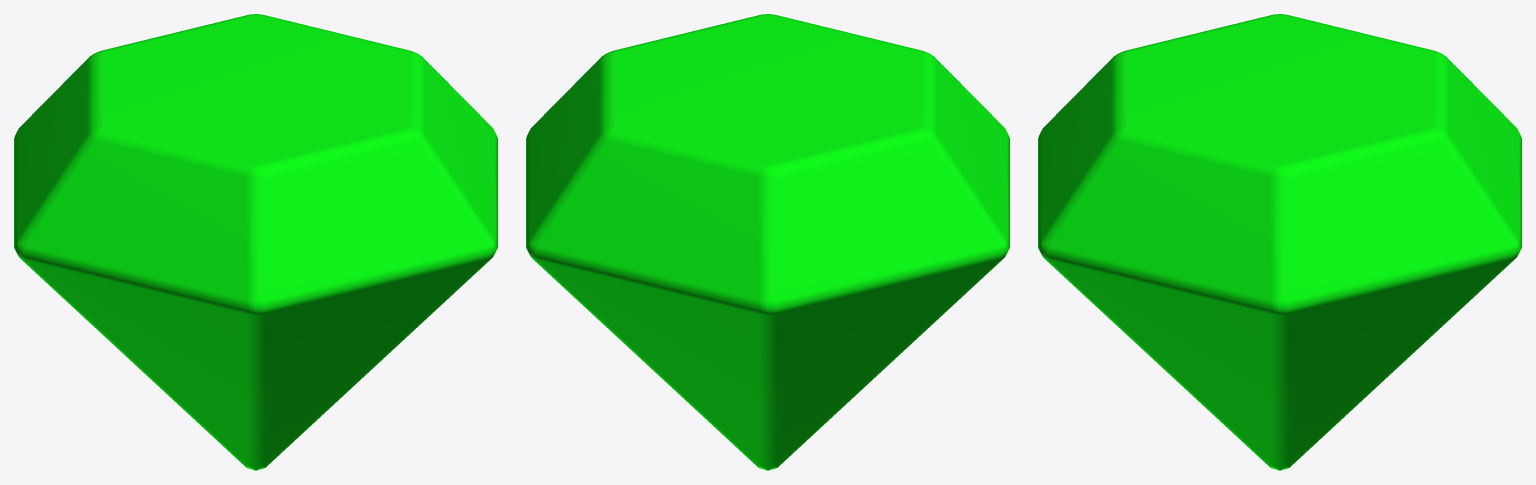
The model's file is Treasure_Gem5.fbx.
The picture shows the model from 3 angles, left to right: view 1: azimuth 30°, elevation 25°; view 2: azimuth 150°, elevation 25°; view 3: azimuth 270°, elevation 25°; orthographic projection.
Visible parts, largest first — view 1: Gem5; view 2: Gem5; view 3: Gem5.
Part boxes in pixels (left/top/right/bottom): Gem5: left=14, top=14, right=497, bottom=470; Gem5: left=526, top=14, right=1009, bottom=470; Gem5: left=1038, top=14, right=1521, bottom=470.
Size of the model in its own units: 121 by 91.93 by 106.
